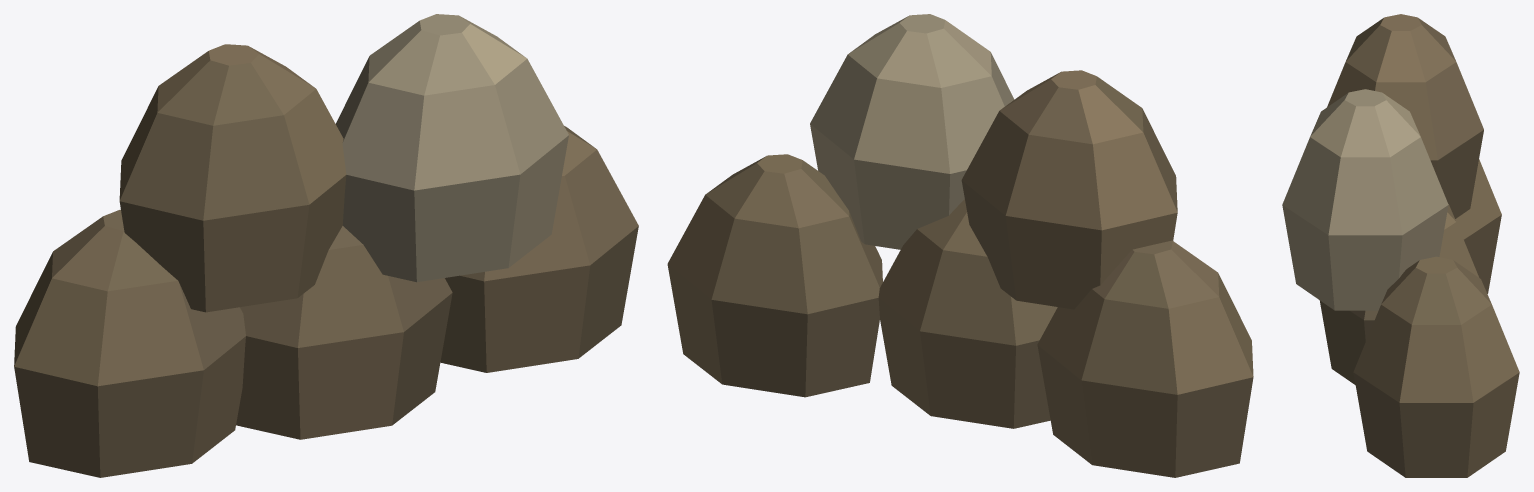
Rendered from walk_prop_sacks.glb.
The picture shows the model from 3 angles, left to right: view 1: azimuth 30°, elevation 25°; view 2: azimuth 150°, elevation 25°; view 3: azimuth 270°, elevation 25°; orthographic projection. The views are drawn at different scales.
Parts seen in each view (by area): view 1: walk_prop_sacks; view 2: walk_prop_sacks; view 3: walk_prop_sacks.
Part boxes in pixels (x1,y1,x2,y2): walk_prop_sacks: (14,14,638,477); walk_prop_sacks: (667,14,1253,477); walk_prop_sacks: (1282,14,1519,477).
Bounding box in the file's own units: 1.62 × 0.93 × 0.668.
1 material, 1 textured.
